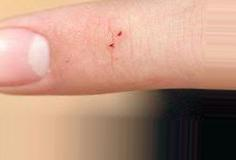Spider: (99, 23, 124, 53)
